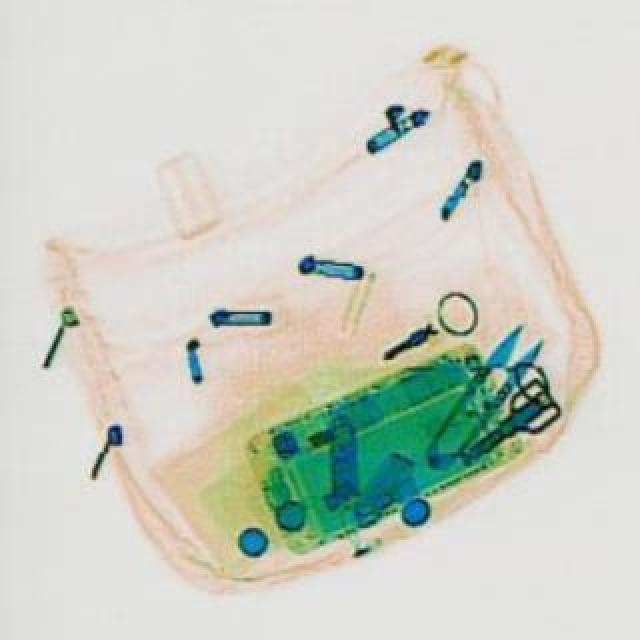pliers: (410, 316, 546, 472)
